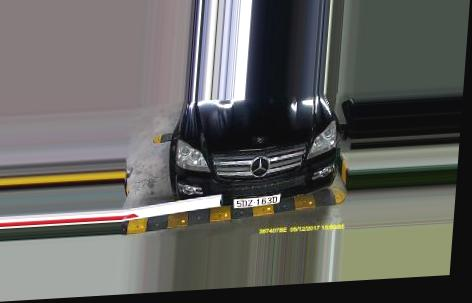License_Plate: (232, 192, 279, 208)
